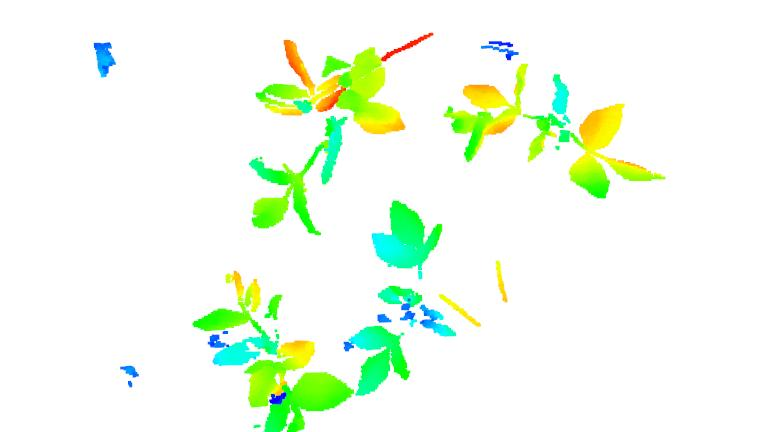mungbean: (447, 62, 673, 203), (247, 40, 403, 234), (190, 272, 357, 432), (353, 206, 453, 396)
